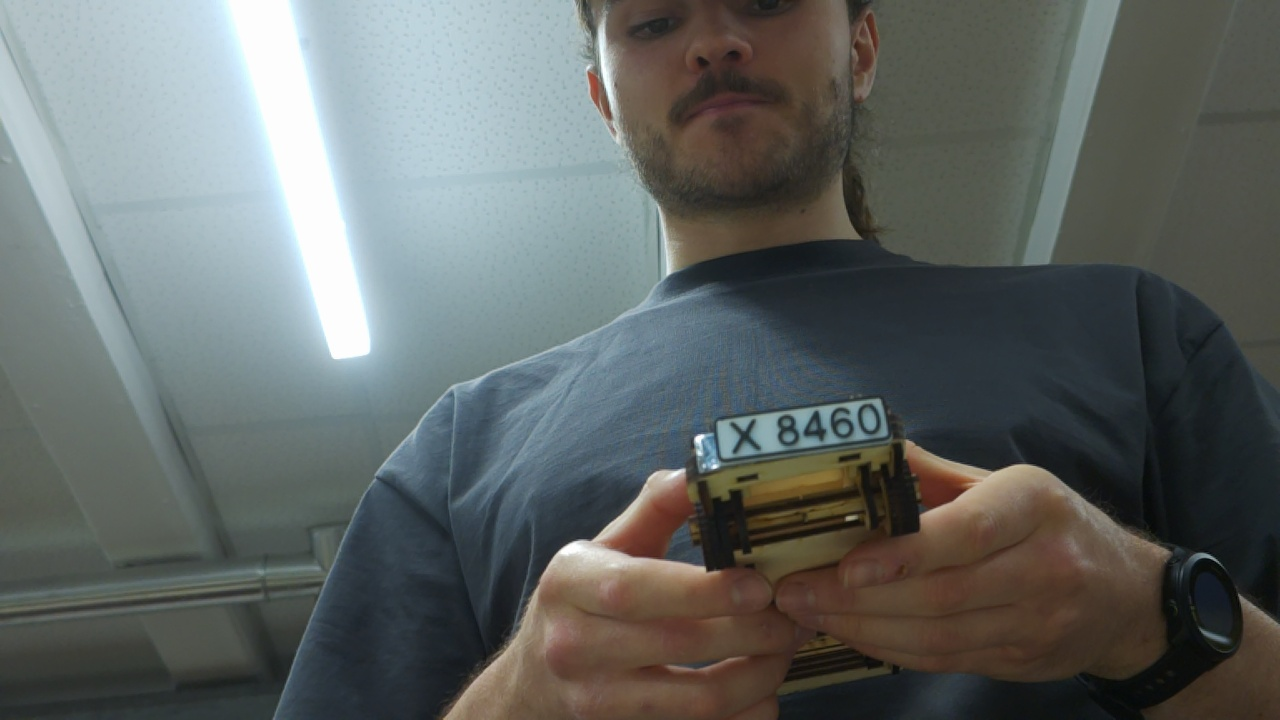license_plate: (704, 394, 898, 464)
